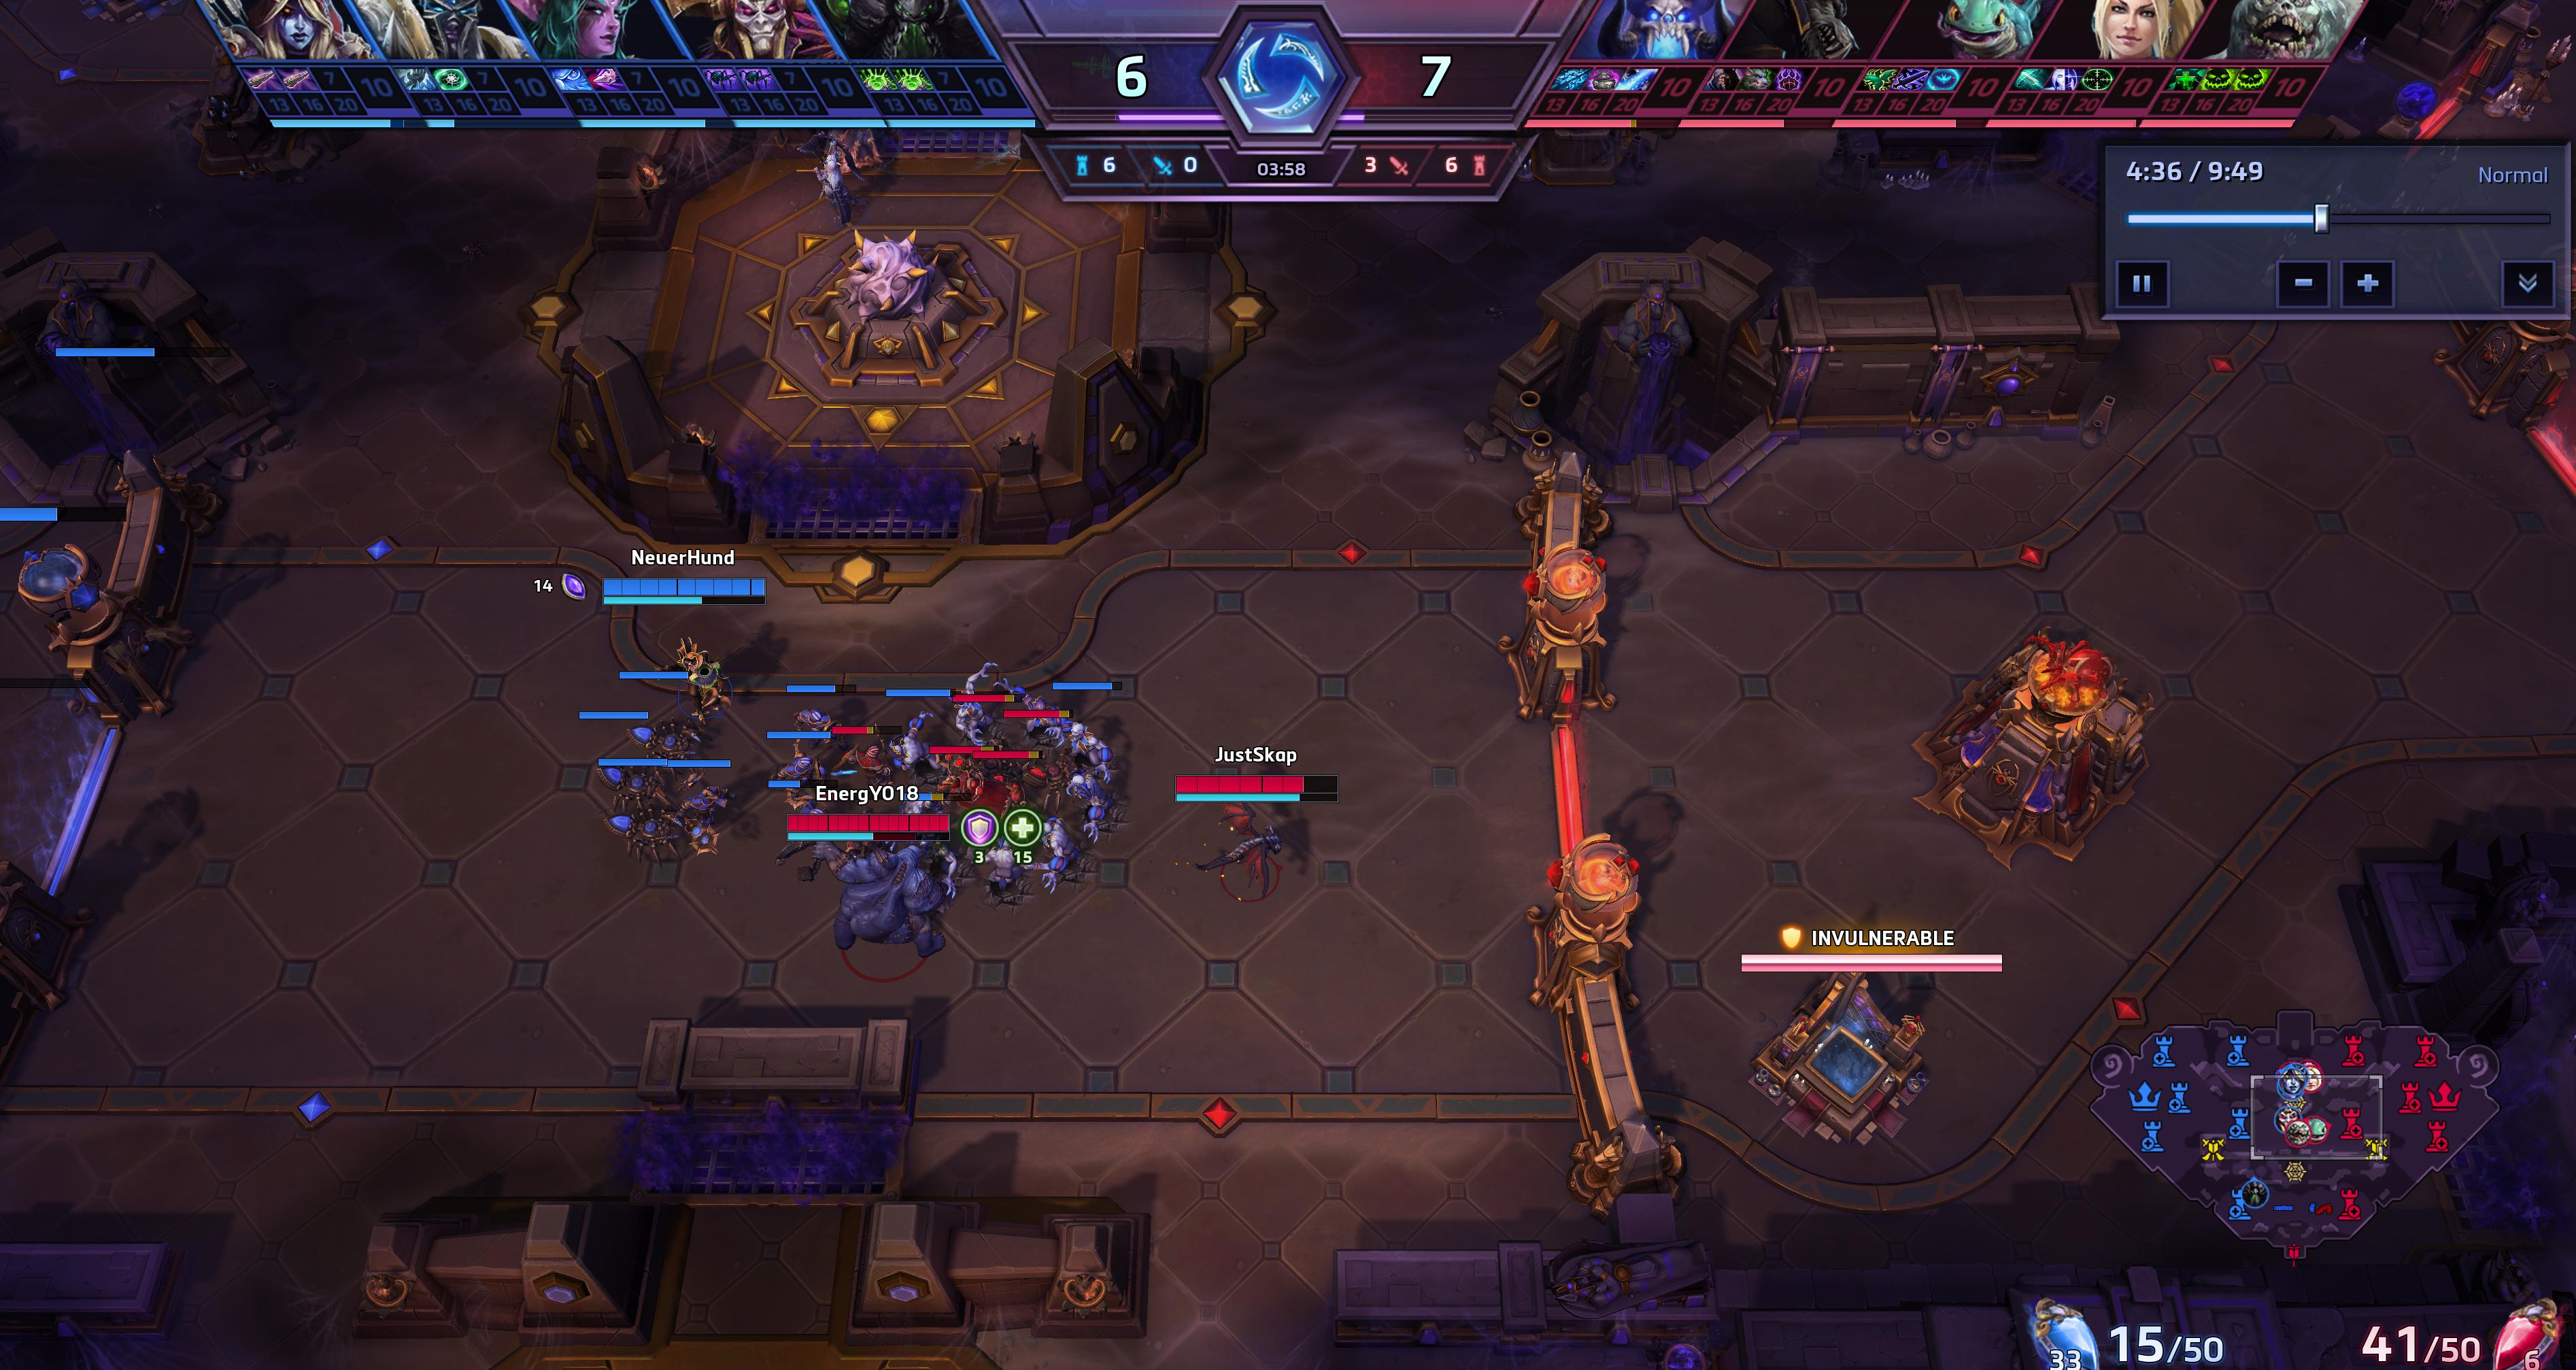blue nexus: (2126, 1078, 2164, 1115)
blue player: (2240, 1175, 2273, 1209), (2275, 1067, 2307, 1097), (2271, 1104, 2304, 1134)
blue tower: (2150, 1032, 2177, 1070), (2224, 1033, 2254, 1068), (2226, 1186, 2254, 1222), (2166, 1080, 2192, 1115), (2139, 1119, 2166, 1153), (2227, 1107, 2253, 1140)
red nexus: (2427, 1078, 2463, 1114)
red player: (2302, 1113, 2333, 1146), (2284, 1116, 2311, 1152), (2296, 1064, 2326, 1096)
red tower: (2339, 1032, 2369, 1069), (2410, 1033, 2439, 1069), (2338, 1104, 2365, 1142), (2336, 1186, 2364, 1222), (2423, 1118, 2451, 1154), (2397, 1080, 2423, 1116)
